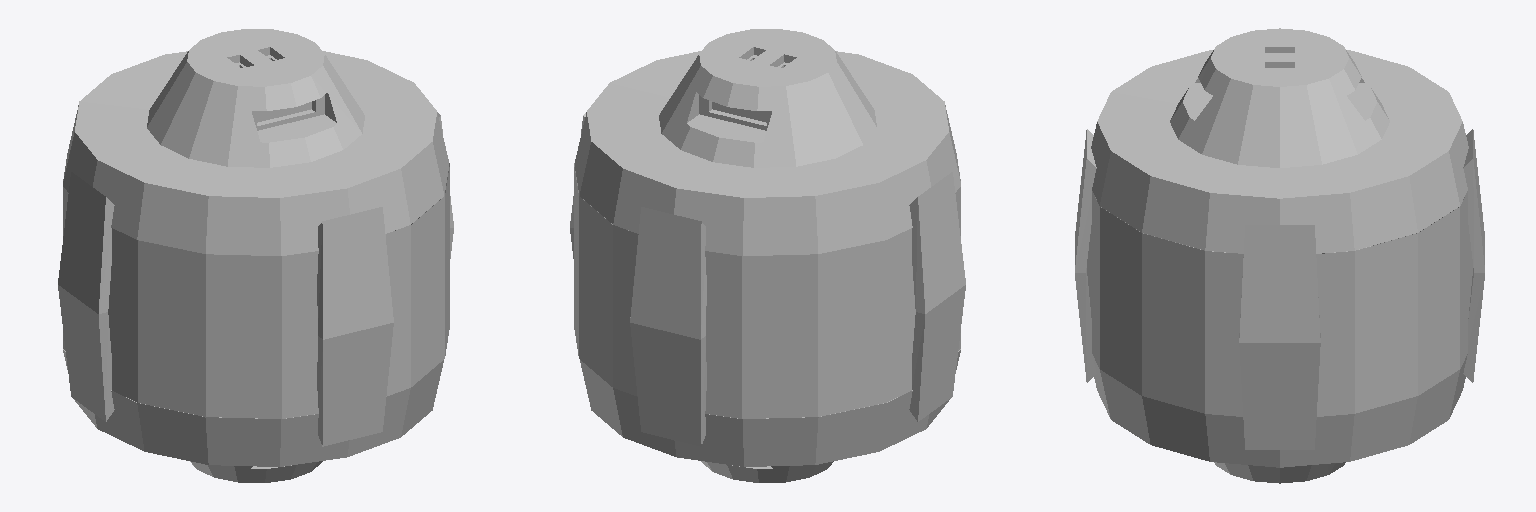
The model's file is Core_IV.obj.
3 renders of one model, left to right at view 1: azimuth 30°, elevation 25°; view 2: azimuth 150°, elevation 25°; view 3: azimuth 270°, elevation 25°, orthographic.
Visible parts, largest first — view 1: Core_IV_C4Mesh, Core_IV_Glass_C4GlsMesh; view 2: Core_IV_C4Mesh, Core_IV_Glass_C4GlsMesh; view 3: Core_IV_C4Mesh, Core_IV_Glass_C4GlsMesh.
Part boxes in pixels (x1,y1,x2,y2): Core_IV_C4Mesh: (58,29,453,482); Core_IV_Glass_C4GlsMesh: (63,163,449,418); Core_IV_C4Mesh: (570,29,965,482); Core_IV_Glass_C4GlsMesh: (574,163,960,418); Core_IV_C4Mesh: (1075,28,1484,483); Core_IV_Glass_C4GlsMesh: (1087,191,1472,416).
Bounding box in the file's own units: 2.18 × 2.33 × 2.18.